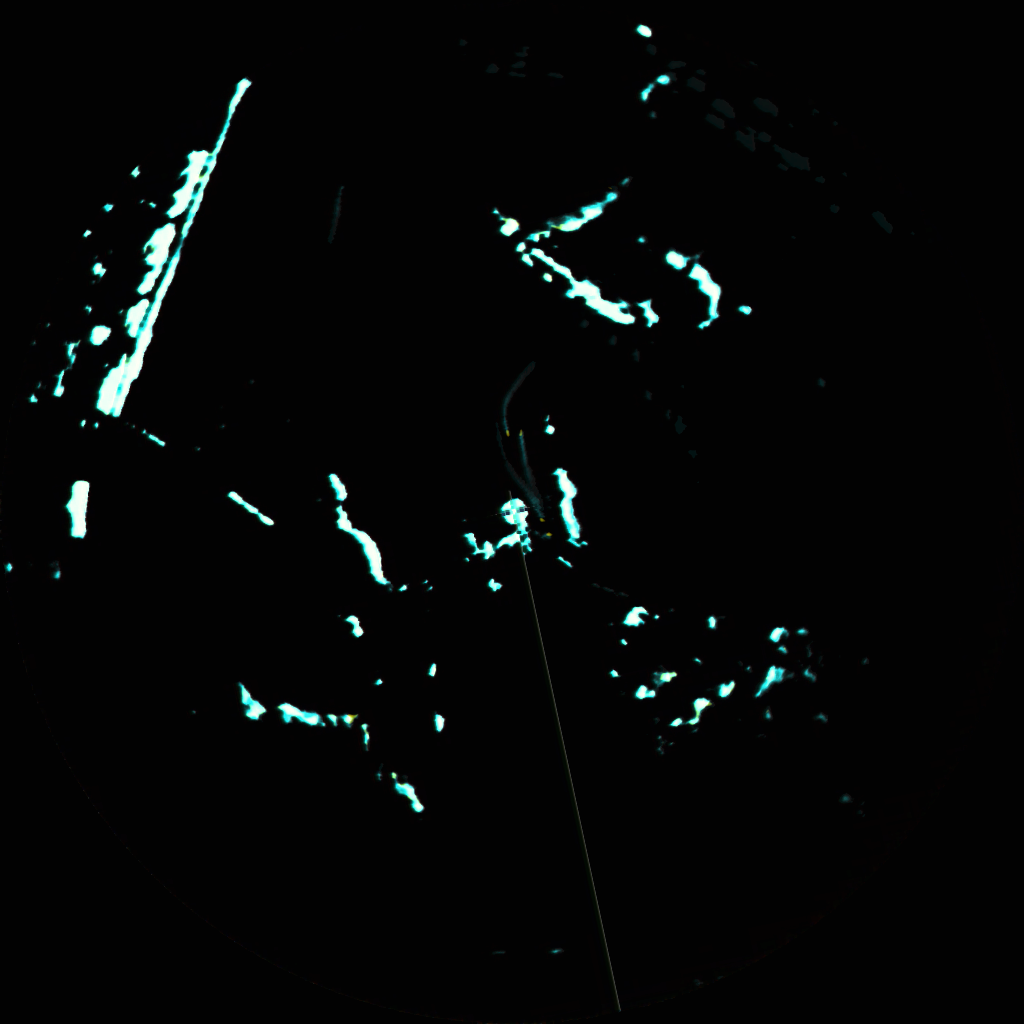B: (500, 381, 517, 438), (520, 482, 544, 522), (516, 428, 529, 467), (541, 530, 552, 538)
